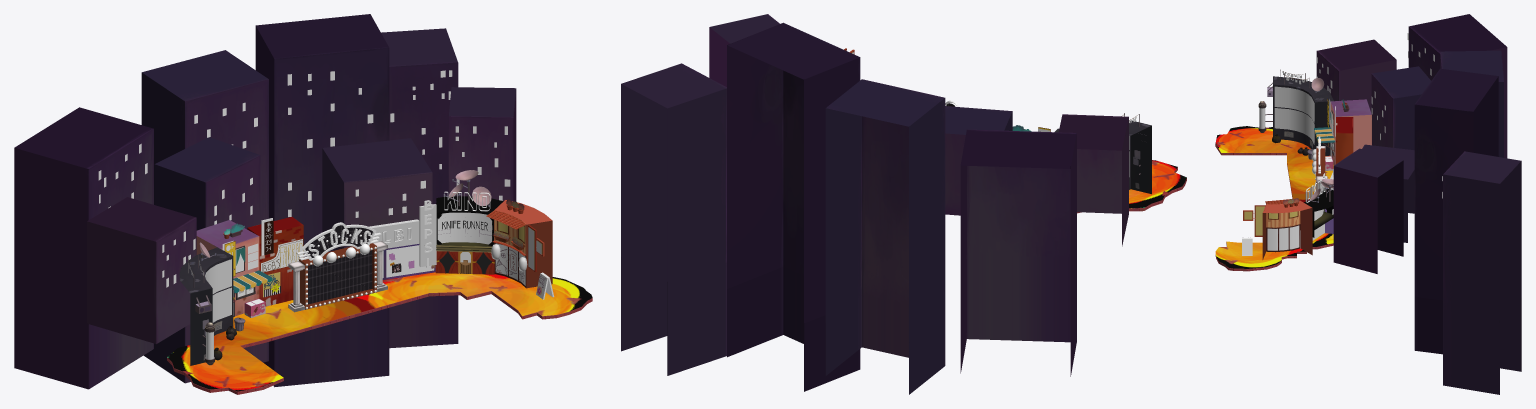
File: arena_BG.fbx
3 renders of one model, left to right at view 1: azimuth 30°, elevation 25°; view 2: azimuth 150°, elevation 25°; view 3: azimuth 270°, elevation 25°, orthographic. The views are drawn at different scales.
Parts seen in each view (by area): view 1: BG_buildings, FG_buildings_emission, vegetation, FG_buildings_transparent, FG_buildings_translucent, tiles; view 2: BG_buildings, FG_buildings_emission, vegetation; view 3: BG_buildings, FG_buildings_emission, vegetation, FG_buildings_translucent, tiles, FG_buildings_transparent.
Boxes of the visible parts, <box> form: BG_buildings: <box>14,14,516,389</box>; FG_buildings_emission: <box>179,170,554,365</box>; vegetation: <box>167,272,592,391</box>; FG_buildings_transparent: <box>189,199,545,302</box>; FG_buildings_translucent: <box>205,204,541,359</box>; tiles: <box>167,291,592,394</box>; BG_buildings: <box>621,14,1128,394</box>; FG_buildings_emission: <box>844,48,1151,194</box>; vegetation: <box>1129,160,1186,208</box>; BG_buildings: <box>1316,14,1521,394</box>; FG_buildings_emission: <box>1242,69,1371,259</box>; vegetation: <box>1215,126,1333,268</box>; FG_buildings_translucent: <box>1259,86,1333,189</box>; tiles: <box>1215,144,1333,271</box>; FG_buildings_transparent: <box>1282,71,1345,204</box>.
Bounding box in the file's own units: 33401 × 23411 × 26105.
